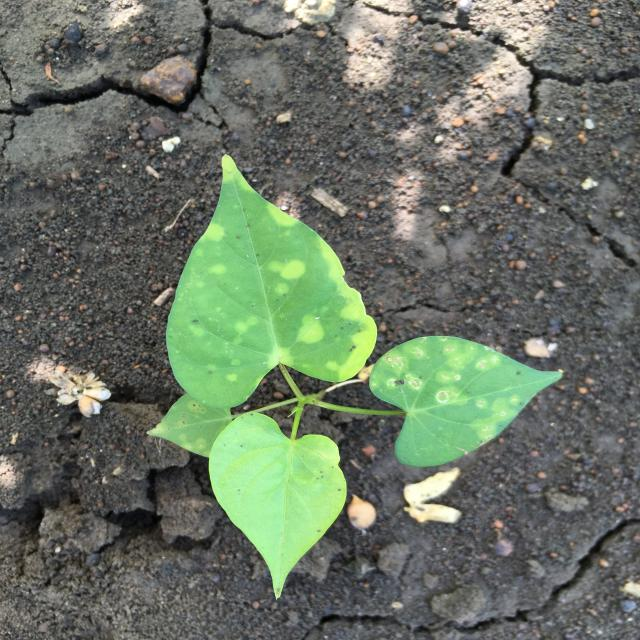MorningGlory: (147, 154, 562, 599)
